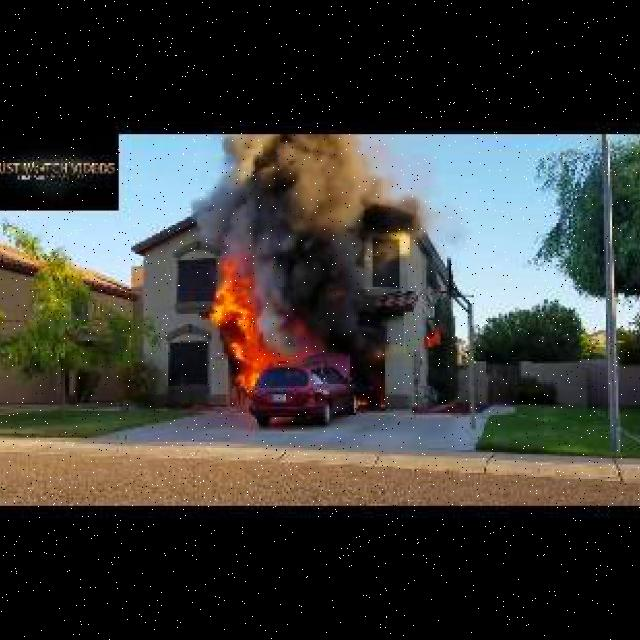fire: (206, 256, 272, 388), (420, 324, 445, 351)
smoke: (276, 136, 418, 353), (193, 134, 274, 258)
